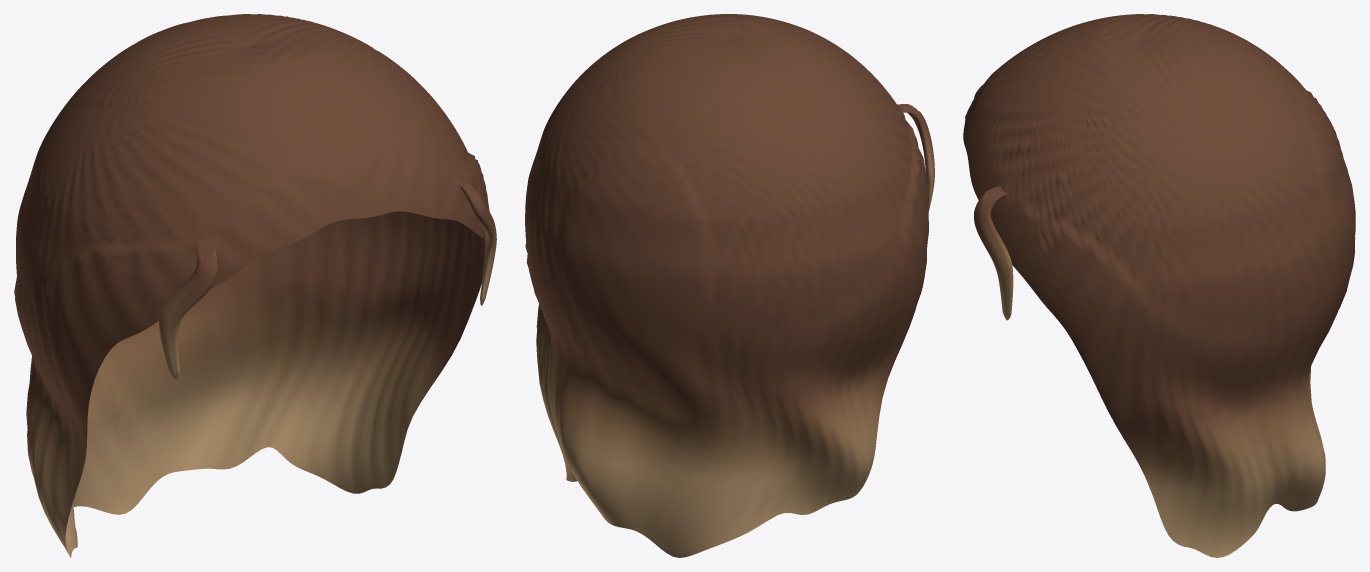
The model's file is space-buns-cap-ombre.glb.
3 views of the same model, side by side, from view 1: azimuth 30°, elevation 25°; view 2: azimuth 150°, elevation 25°; view 3: azimuth 270°, elevation 25° (orthographic). The views are drawn at different scales.
Parts seen in each view (by area): view 1: 226 hair / Hair / chestnut226.002; view 2: 226 hair / Hair / chestnut226.002; view 3: 226 hair / Hair / chestnut226.002.
Part boxes in pixels (x1=…): 226 hair / Hair / chestnut226.002: x1=14, y1=14, x2=496, y2=557; 226 hair / Hair / chestnut226.002: x1=525, y1=14, x2=934, y2=557; 226 hair / Hair / chestnut226.002: x1=963, y1=14, x2=1355, y2=557.
Size of the model in its own units: 0.8048 by 0.9707 by 0.7316.
1 material, 1 textured.
